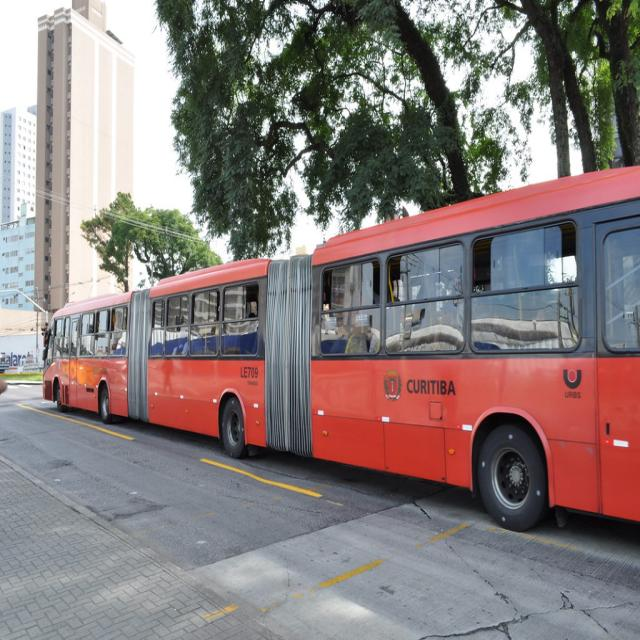AB: (39, 159, 638, 545)
